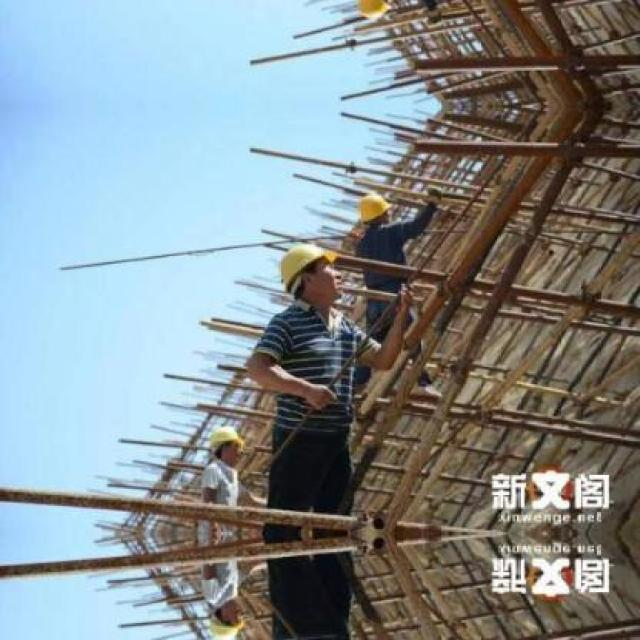helmet: (278, 240, 344, 304), (352, 190, 392, 228), (212, 426, 246, 464), (212, 603, 248, 637), (352, 0, 394, 23)
